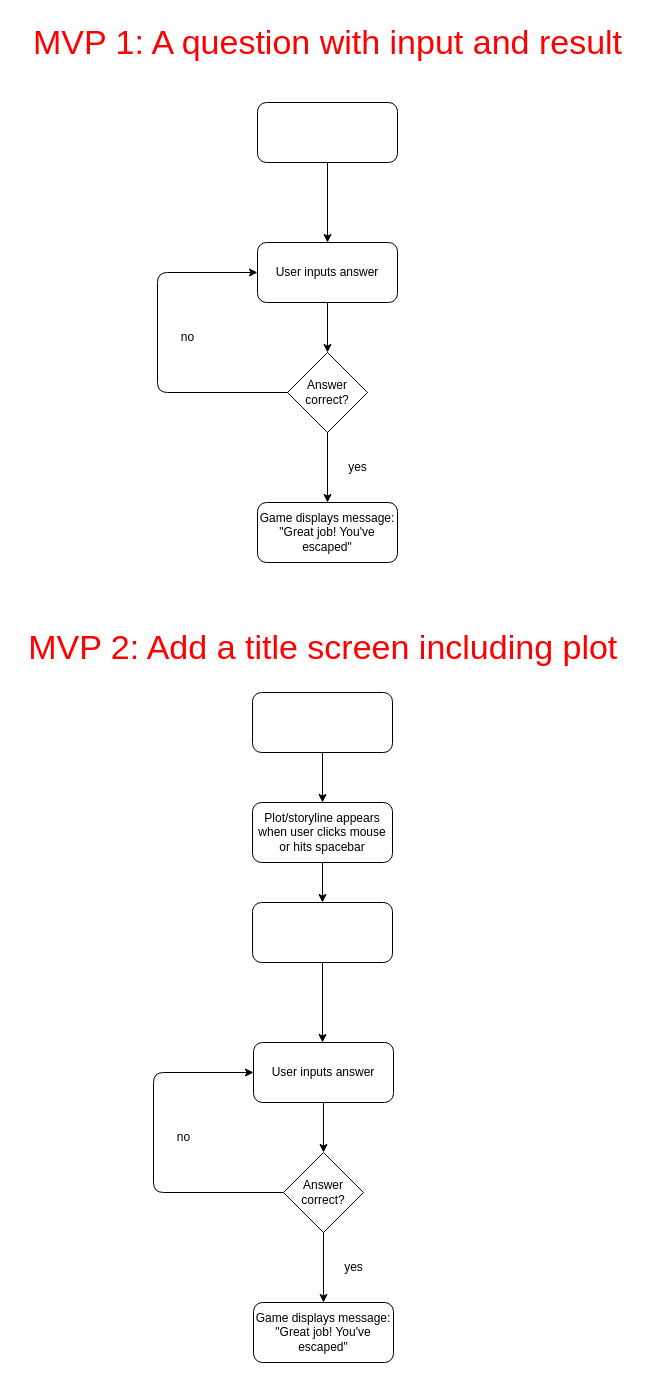
Image size: 654x1380. Some labels were removed from this diagram. The shapes that lost their labels are listed below. From the top down, each one's box as (x1, y1, x2, y2) in pixels, then its label:
(256, 102, 398, 162): Question appears
(252, 692, 392, 752): Title Screen Appears "Hackathon Heist"
(252, 902, 392, 962): Question appears when user clicks mouse or hits spacebar
